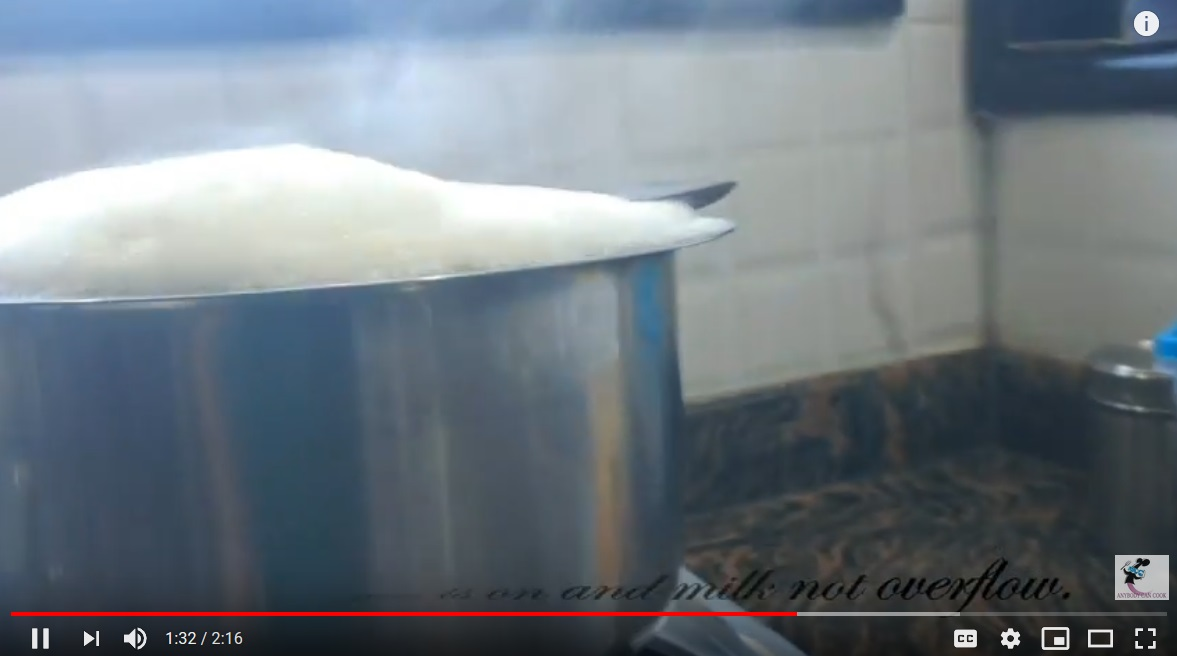Boiled: (1, 136, 746, 431)
